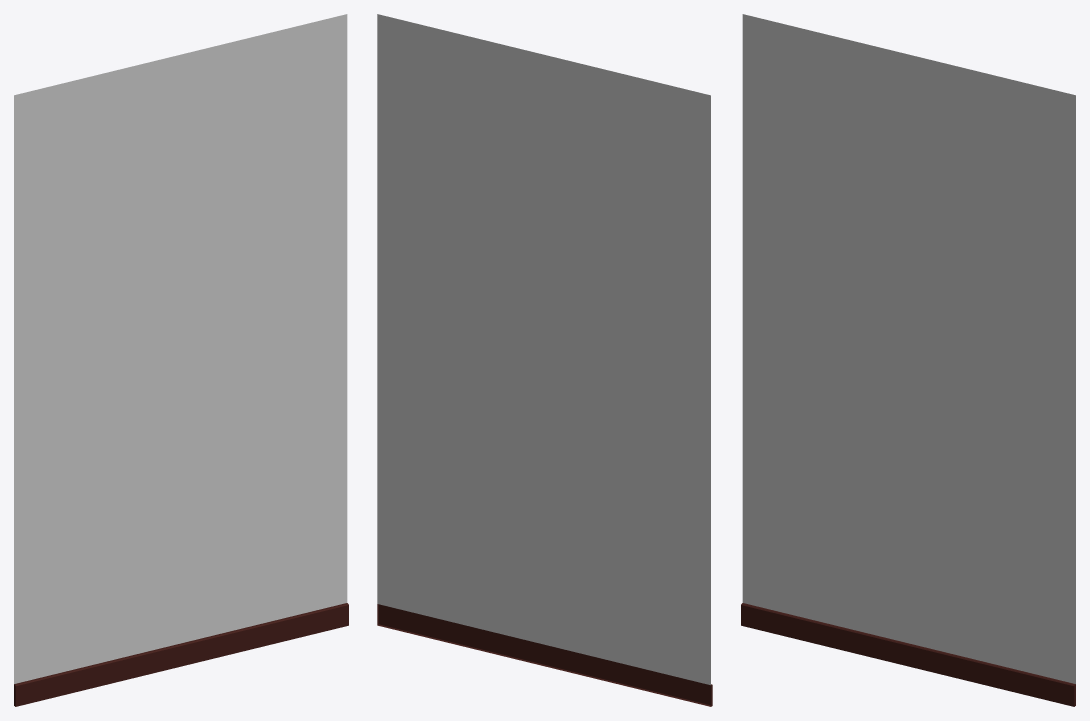
The model's file is Hallway_Wall.015.fbx.
The picture shows the model from 3 angles, left to right: view 1: azimuth 30°, elevation 25°; view 2: azimuth 150°, elevation 25°; view 3: azimuth 330°, elevation 25°; orthographic projection.
Visible parts, largest first — view 1: Hallway_Wall.015; view 2: Hallway_Wall.015; view 3: Hallway_Wall.015.
Boxes of the visible parts, x1,y1,x2,y2 form: Hallway_Wall.015: [14, 14, 348, 706]; Hallway_Wall.015: [377, 14, 712, 706]; Hallway_Wall.015: [741, 14, 1075, 706].
Bounding box in the file's own units: 157 × 275 × 1.33.
